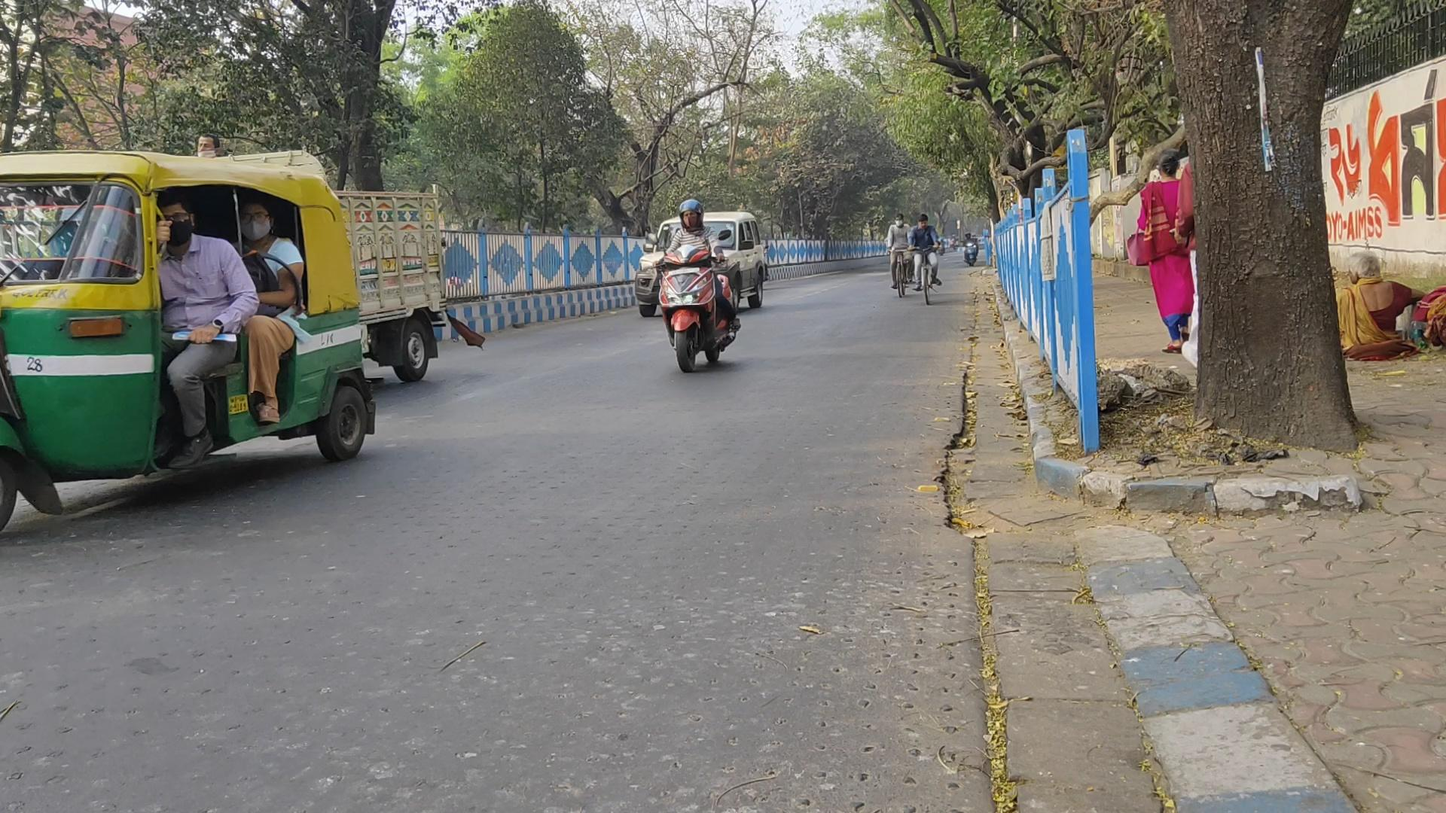Auto: (3, 147, 376, 552)
bike: (645, 198, 741, 373), (907, 213, 942, 306), (885, 213, 914, 299), (959, 230, 980, 267)
car: (635, 211, 769, 318)
van: (174, 132, 451, 383)
